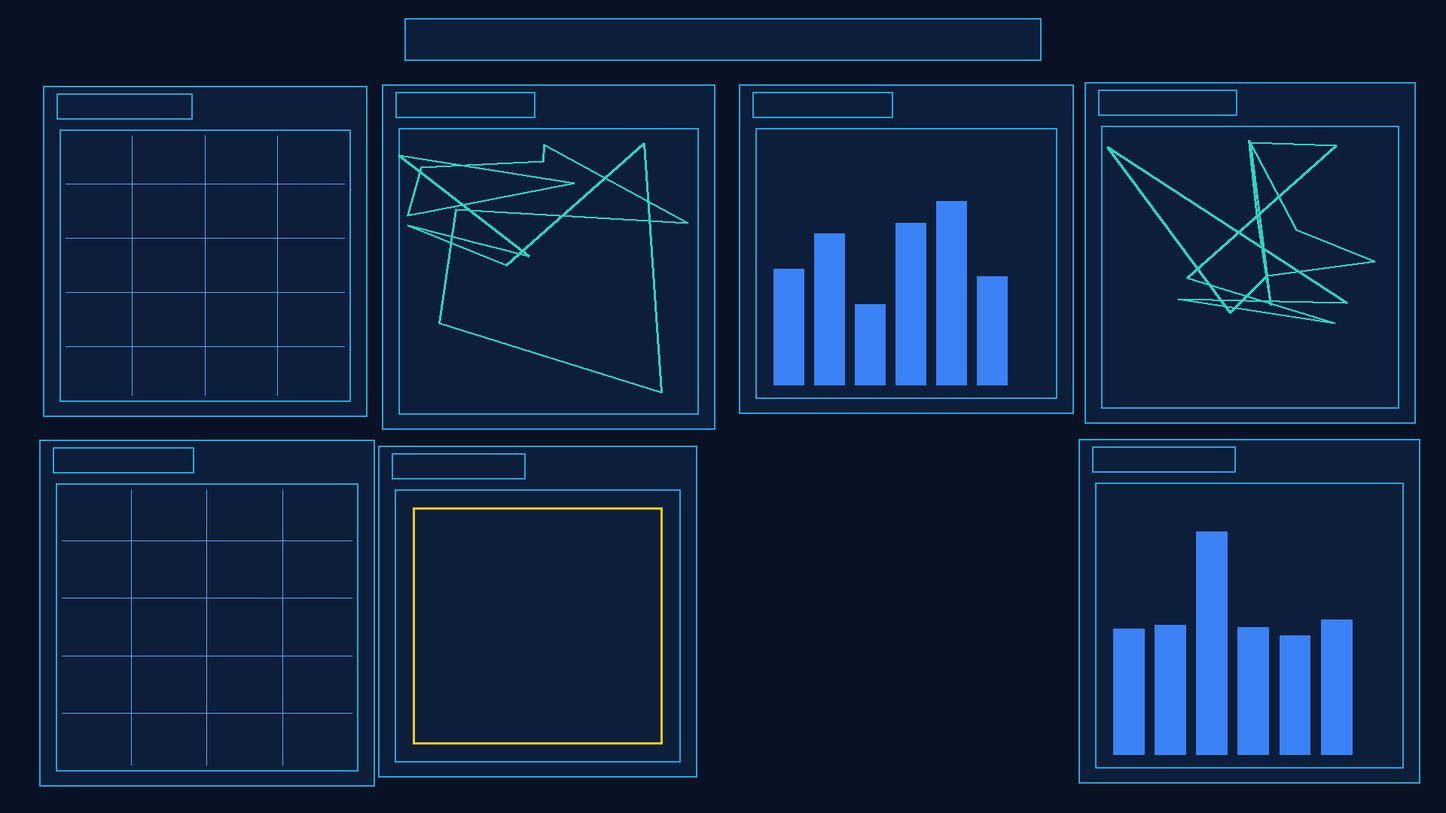Chart: (1095, 483, 1403, 768), (755, 128, 1057, 398)
Map: (399, 128, 698, 414), (1101, 126, 1399, 408)
MetricCard: (395, 489, 680, 762)
Panel: (1079, 439, 1420, 783), (39, 440, 375, 786), (382, 84, 715, 429), (1085, 82, 1415, 423), (739, 84, 1074, 413), (43, 86, 367, 416), (378, 446, 697, 777)
Table: (56, 483, 358, 771), (59, 129, 351, 401)
Title: (405, 18, 1041, 60), (1092, 446, 1236, 472), (53, 447, 194, 473), (56, 93, 193, 119), (752, 92, 893, 117), (392, 453, 526, 479), (396, 92, 535, 117), (1098, 90, 1237, 115)
